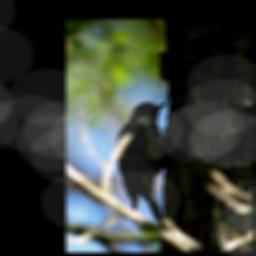Woodpecker: (115, 101, 169, 229)
